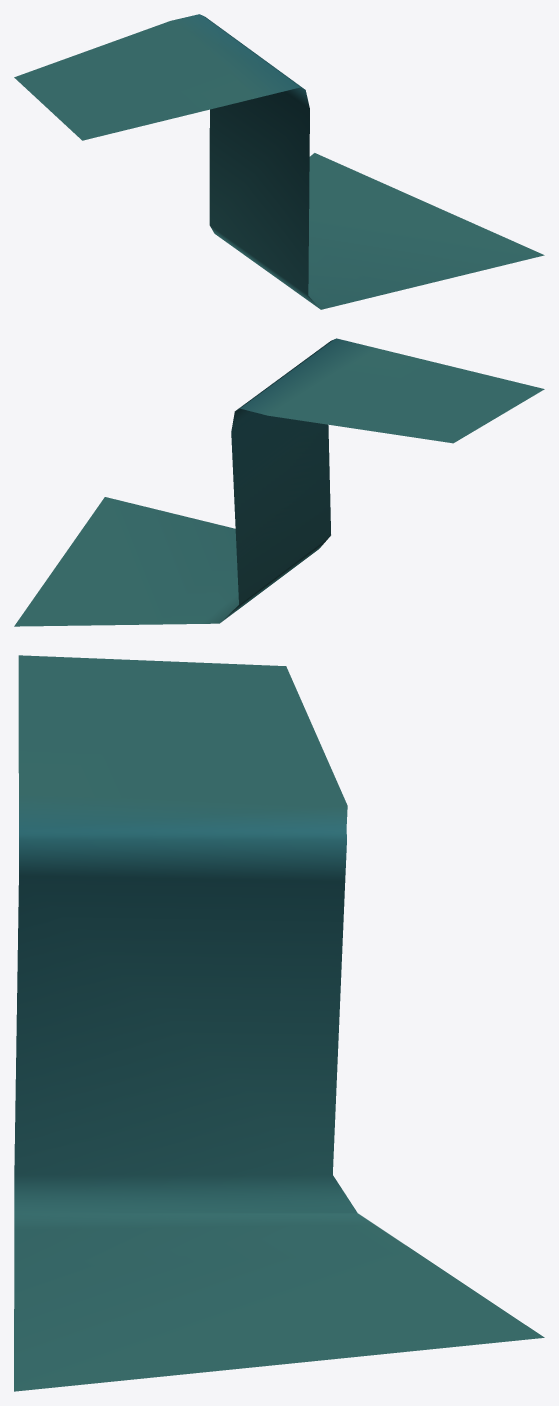
File: fbx_WaterFall_temp.FBX
3 renders of one model, top to bottom at view 1: azimuth 30°, elevation 25°; view 2: azimuth 150°, elevation 25°; view 3: azimuth 270°, elevation 25°, orthographic. The views are drawn at different scales.
Parts seen in each view (by area): view 1: fbx_waterFall_temp; view 2: fbx_waterFall_temp; view 3: fbx_waterFall_temp.
Part boxes in pixels (left/top/right/bottom): fbx_waterFall_temp: left=14, top=14, right=544, bottom=309; fbx_waterFall_temp: left=14, top=338, right=544, bottom=626; fbx_waterFall_temp: left=14, top=655, right=544, bottom=1391.
Size of the model in its own units: 534 by 251 by 326.
